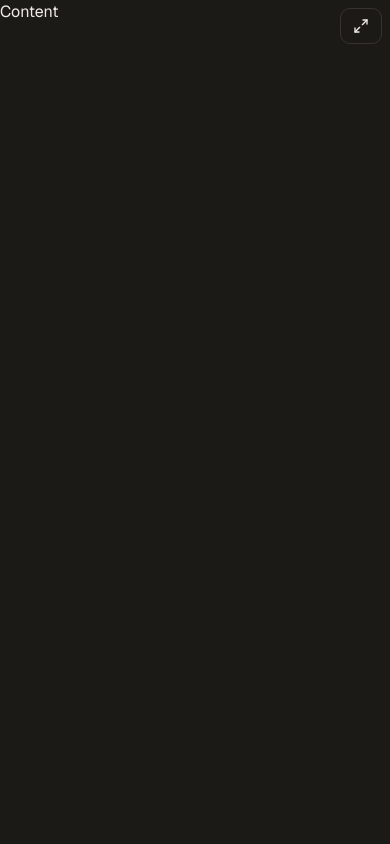
Scenario: InteractiveBottomSheet › closes bottom sheet when close button clicked
Click the button with test id "expand-button".
click(361, 26)  # box [340,8,382,44]
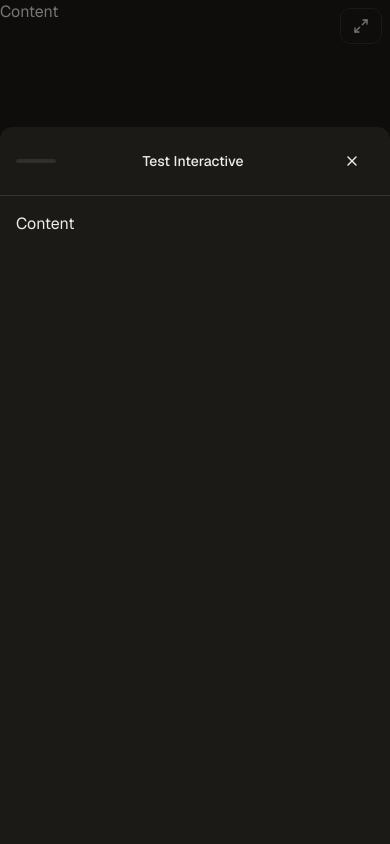
Expected: the element with test id "bottom-sheet" is shown
Click the button with test id "close-button".
click(352, 161)  # box [330,139,374,183]
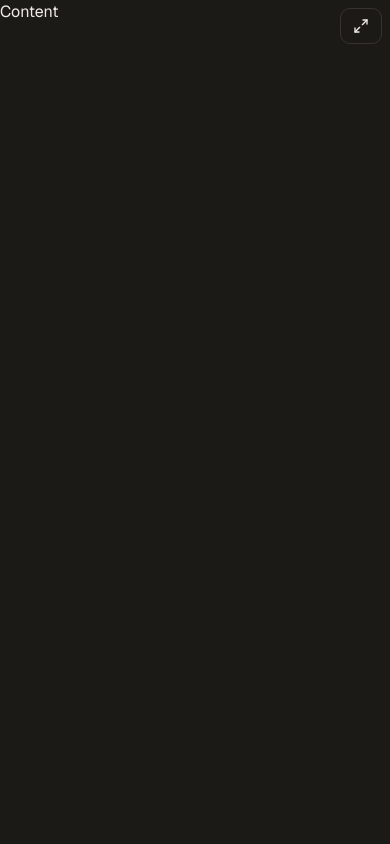
Expected: the element with test id "bottom-sheet" is gone
